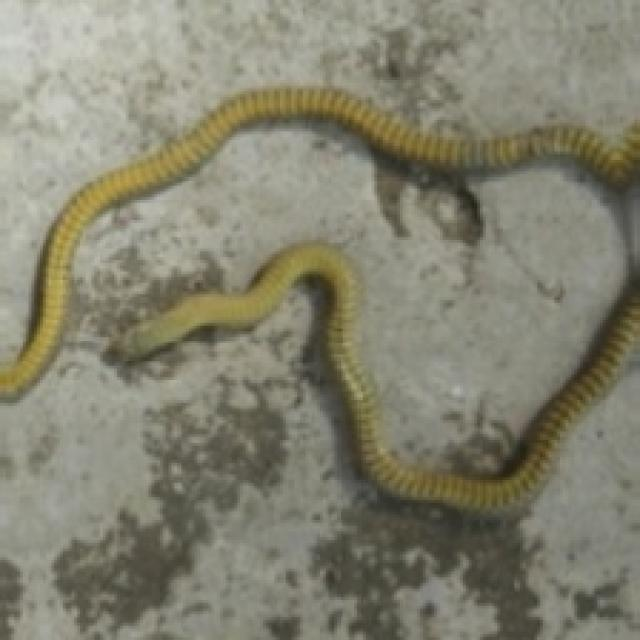gervais worm snake: (0, 86, 637, 400), (109, 243, 637, 509)
